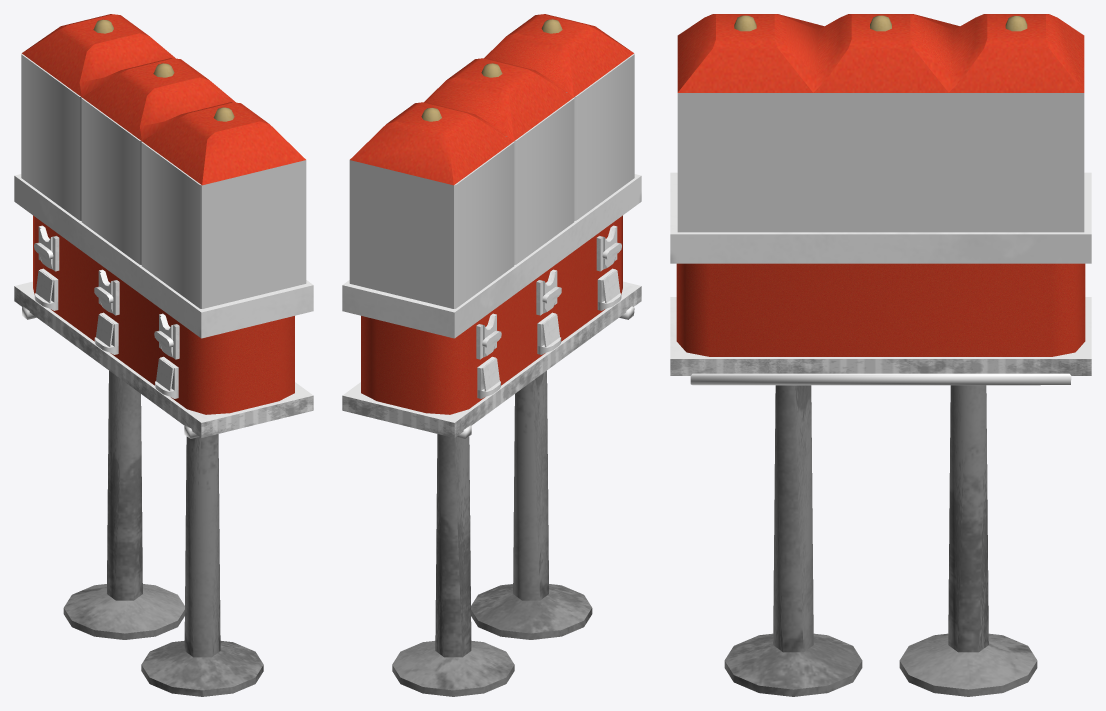
File: Gumball LOD1.fbx
3 views of the same model, side by side, from view 1: azimuth 30°, elevation 25°; view 2: azimuth 150°, elevation 25°; view 3: azimuth 270°, elevation 25° (orthographic). The views are drawn at different scales.
Parts seen in each view (by area): view 1: Plane.013; view 2: Plane.013; view 3: Plane.013.
Boxes of the visible parts, <box> form: Plane.013: <box>14,14,313,696</box>; Plane.013: <box>342,14,641,696</box>; Plane.013: <box>670,14,1091,696</box>.
Size of the model in its own units: 26.59 by 120 by 70.03.
